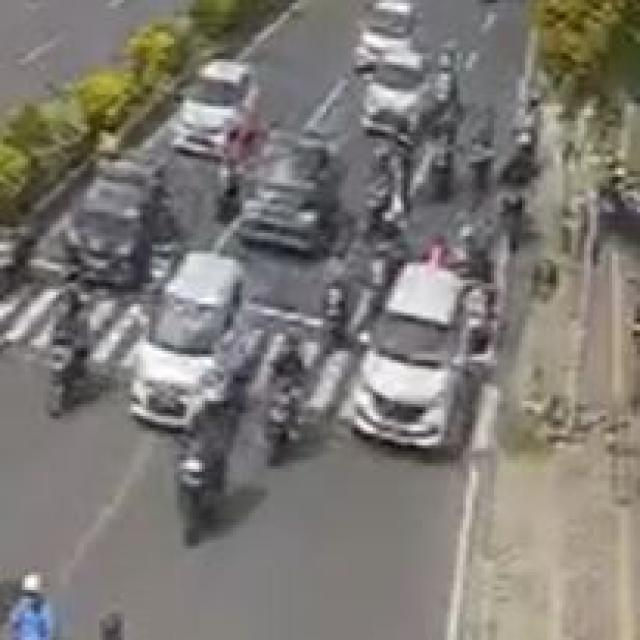car: (345, 262, 495, 482), (131, 249, 255, 439), (176, 61, 268, 165)
motorbike: (40, 301, 98, 454), (264, 336, 314, 465), (180, 390, 218, 532), (312, 257, 358, 339)
